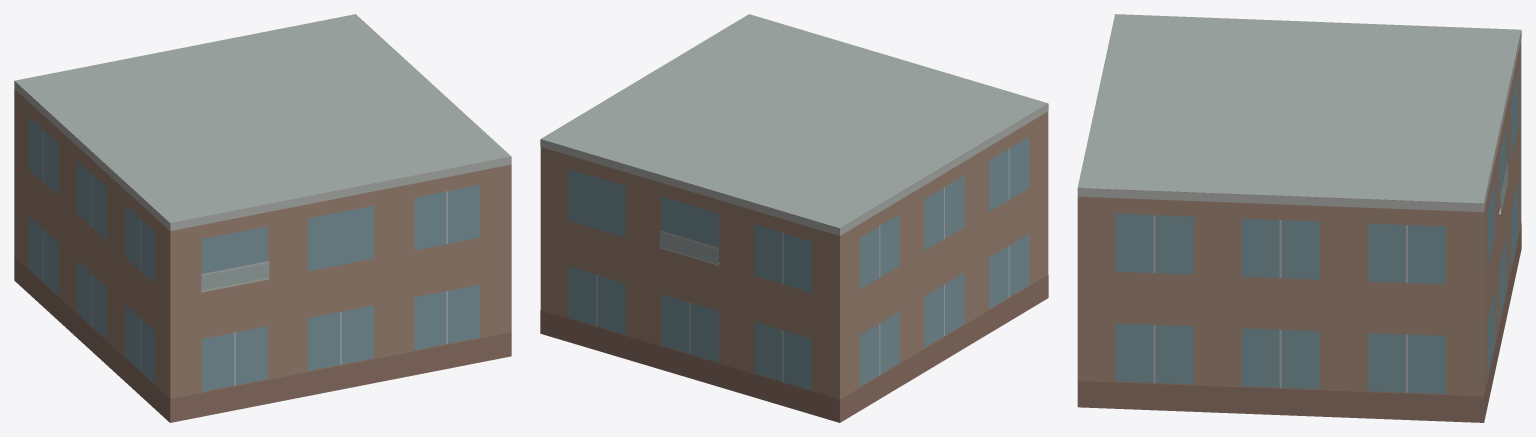
Rendered from survey-upis-32802507.glb.
The picture shows the model from 3 angles, left to right: view 1: azimuth 30°, elevation 25°; view 2: azimuth 150°, elevation 25°; view 3: azimuth 270°, elevation 25°; orthographic projection. The views are drawn at different scales.
Parts seen in each view (by area): view 1: survey-upis-32802507.tmp; view 2: survey-upis-32802507.tmp; view 3: survey-upis-32802507.tmp.
Part boxes in pixels (<box>): survey-upis-32802507.tmp: <box>14,14,511,422</box>; survey-upis-32802507.tmp: <box>540,14,1048,422</box>; survey-upis-32802507.tmp: <box>1077,14,1521,422</box>.
Size of the model in its own units: 11.31 by 6.1 by 11.2.
